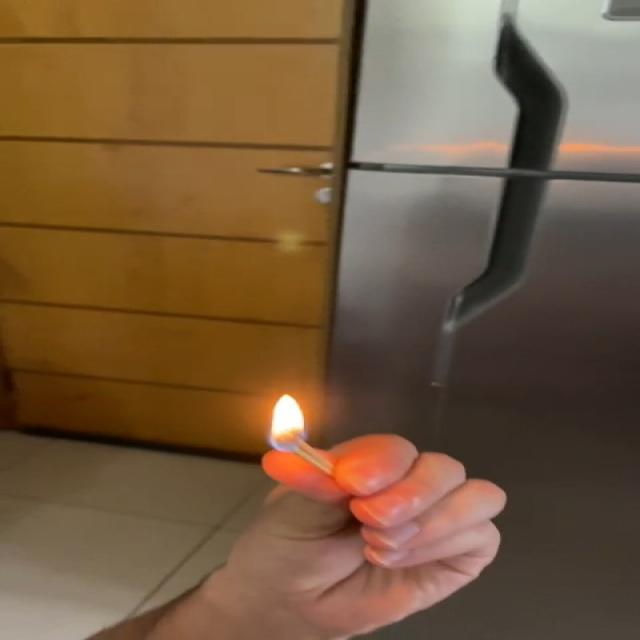fogo-ypXI: (270, 392, 308, 453)
